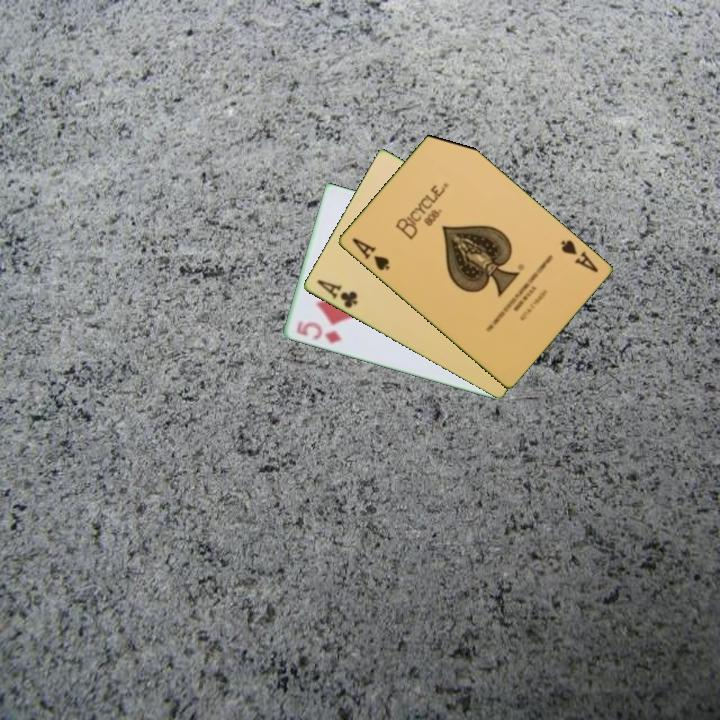5d: (293, 317, 345, 346)
Ac: (313, 276, 360, 311)
As: (348, 234, 393, 274), (556, 236, 601, 275)
